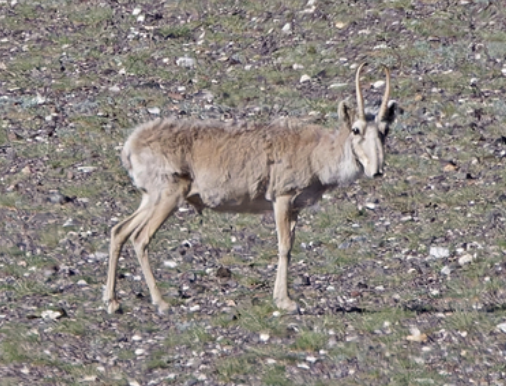saiga: (104, 59, 402, 335)
